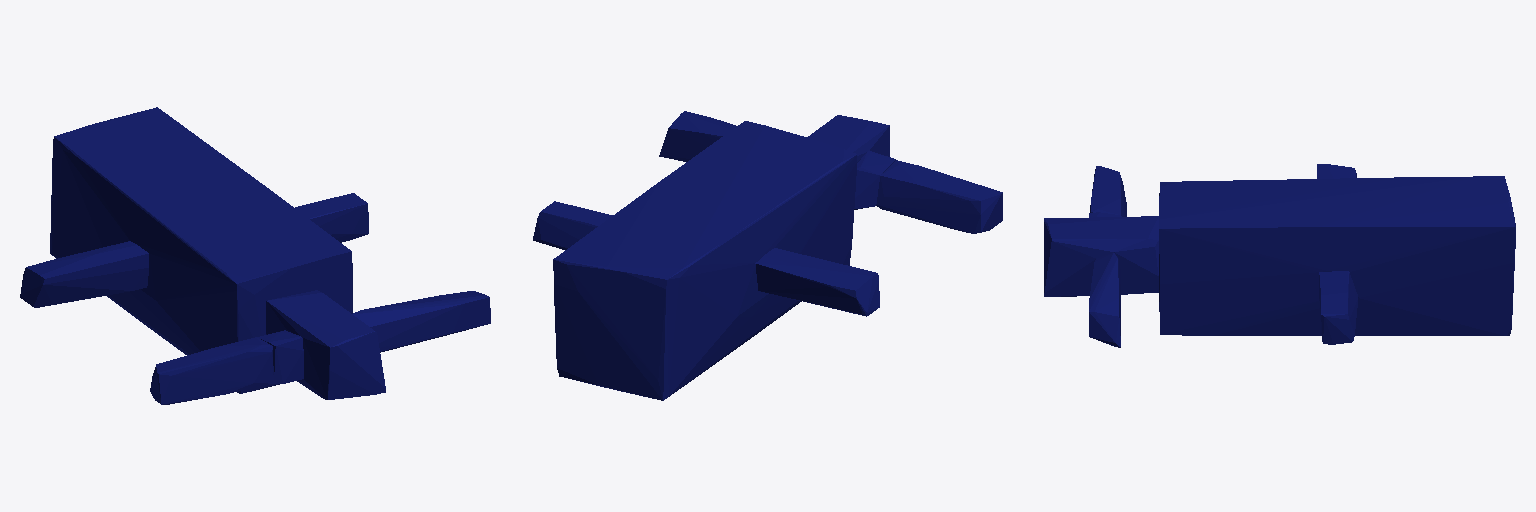
robot.urdf — blob089:
<robot name="blob089">
  <link name="random_obj_089">
    <contact>
      <lateral_friction value="1.0"/>
      <rolling_friction value="0.0"/>
      <inertia_scaling value="3.0"/>
      <contact_cfm value="0.0"/>
      <contact_erp value="1.0"/>
    </contact>
    <inertial>
      <origin rpy="0 0 0" xyz="0 0 0"/>
      <mass value="0.1"/>
      <inertia ixx="1" ixy="0" ixz="0" iyy="1" iyz="0" izz="0"/>
    </inertial>
    <visual>
      <origin rpy="0 0 0" xyz="0 0 0"/>
      <geometry>
        <mesh filename="089.obj" scale="0.015 0.015 0.015"/>
      </geometry>
      <material name="blockmat">
        <color rgba="0.11 0.15 0.46 1"/>
      </material>
    </visual>
    <collision>
      <origin rpy="0 0 0" xyz="0 0 0"/>
      <geometry>
        <mesh filename="089.obj" scale="0.015 0.015 0.015"/>
      </geometry>
    </collision>
  </link>
</robot>

--- What the picture shows (computed from the rendered views, not written in the file) ---
The picture shows the robot from 3 angles, left to right: view 1: azimuth 30°, elevation 25°; view 2: azimuth 150°, elevation 25°; view 3: azimuth 270°, elevation 25°; orthographic projection.
Robot: blob089 — 1 links, 0 joints (none); root link random_obj_089; default pose: every joint at zero.
Links seen in each view (by area): view 1: random_obj_089; view 2: random_obj_089; view 3: random_obj_089.
Link boxes in pixels (<box>): random_obj_089: <box>20,107,490,404</box>; random_obj_089: <box>533,111,1002,400</box>; random_obj_089: <box>1044,164,1515,347</box>.
Bounding box of the posed robot: 0.0931 × 0.1229 × 0.0321 m (x, y, z).
1 mesh visuals loaded from 1 distinct referenced files (1 OBJ).